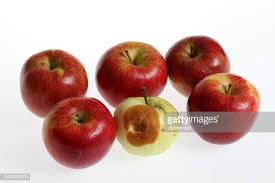apple: (43, 98, 115, 170), (22, 51, 93, 117), (189, 78, 261, 140), (95, 42, 167, 102), (168, 37, 233, 96)
damaged_apple: (114, 93, 180, 158)
